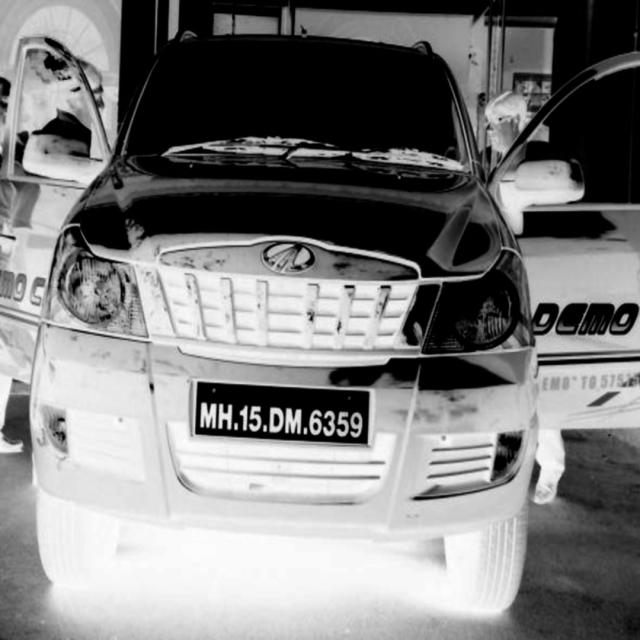Non_registered: (194, 381, 370, 447)
